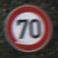Speed Limit -70-: (0, 1, 57, 57)
